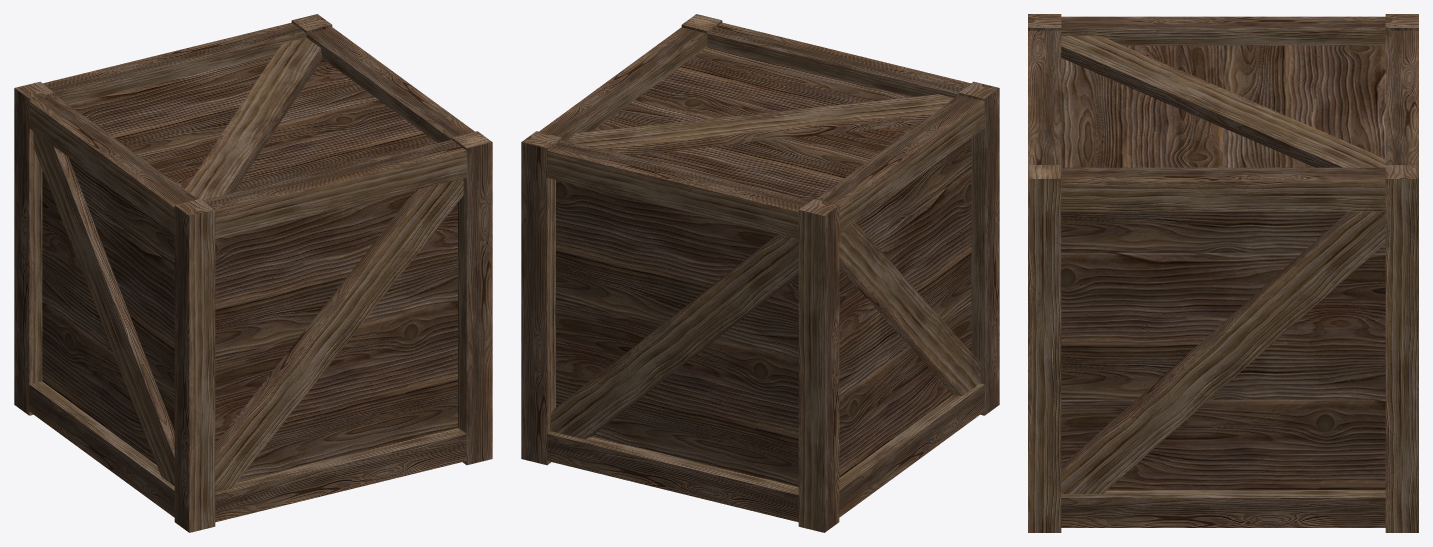
Rendered from storage_box_01.fbx.
The picture shows the model from 3 angles, left to right: view 1: azimuth 30°, elevation 25°; view 2: azimuth 150°, elevation 25°; view 3: azimuth 270°, elevation 25°; orthographic projection. The views are drawn at different scales.
Visible parts, largest first — view 1: storage_box_01; view 2: storage_box_01; view 3: storage_box_01.
Part boxes in pixels (x1,y1,x2,y2): storage_box_01: (14, 14, 492, 532); storage_box_01: (521, 14, 999, 532); storage_box_01: (1028, 14, 1418, 532).
Size of the model in its own units: 73.8 by 73.72 by 73.8.
